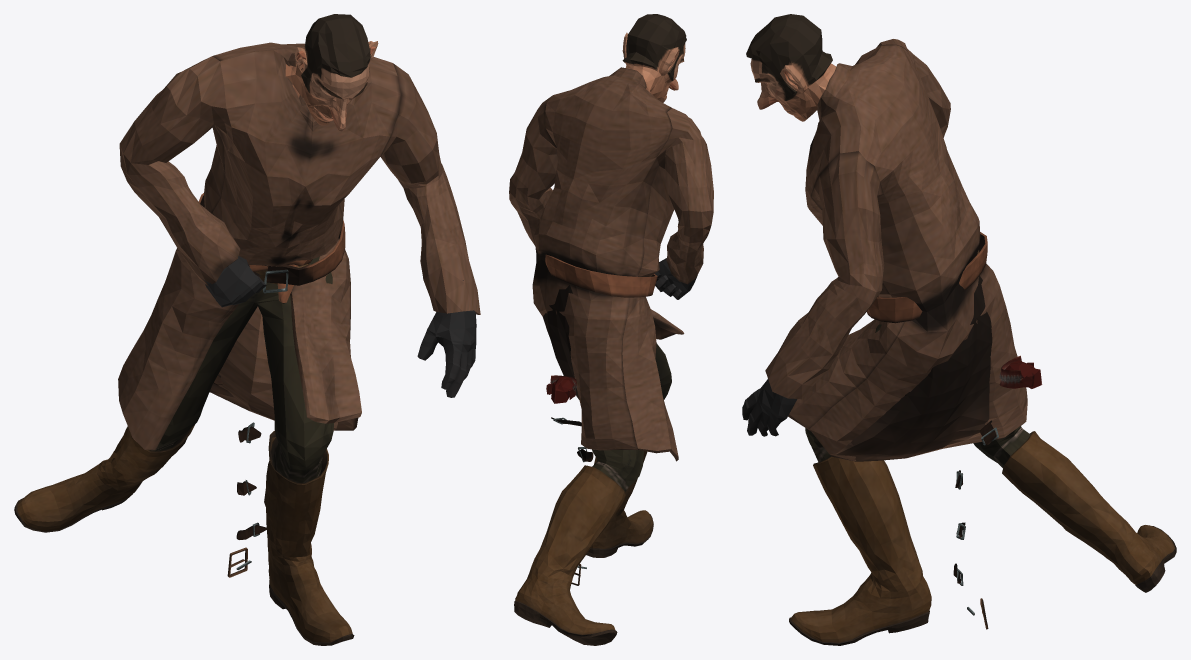
The model's file is sniper01_000015.obj.
3 renders of one model, left to right at view 1: azimuth 30°, elevation 25°; view 2: azimuth 150°, elevation 25°; view 3: azimuth 270°, elevation 25°, orthographic. The views are drawn at different scales.
Visible parts, largest first — view 1: Tops, Shoes, BodyParts, Bottoms; view 2: Tops, Shoes, BodyParts, Bottoms; view 3: Tops, Shoes, BodyParts, Bottoms.
Part boxes in pixels (x1=…): Tops: x1=118, y1=42, x2=480, y2=570; Shoes: x1=14, y1=425, x2=354, y2=645; BodyParts: x1=203, y1=14, x2=476, y2=397; Bottoms: x1=150, y1=256, x2=333, y2=577; Tops: x1=509, y1=67, x2=713, y2=568; Shoes: x1=514, y1=451, x2=653, y2=645; BodyParts: x1=546, y1=14, x2=697, y2=403; Bottoms: x1=571, y1=343, x2=671, y2=585; Tops: x1=765, y1=39, x2=1027, y2=615; Shoes: x1=789, y1=431, x2=1176, y2=645; BodyParts: x1=742, y1=14, x2=1042, y2=436; Bottoms: x1=805, y1=250, x2=1030, y2=629.
Bounding box in the file's own units: 1.07 × 2.28 × 1.46.
